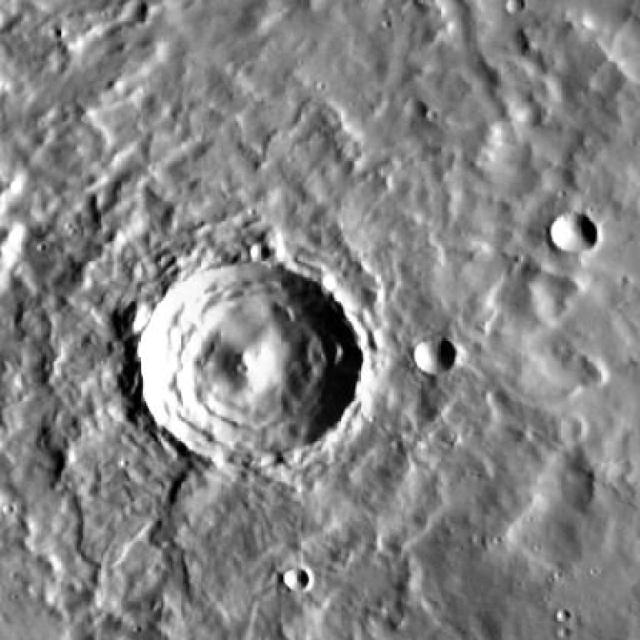crater: (132, 268, 354, 468), (550, 212, 598, 255), (415, 336, 457, 373), (286, 567, 312, 590), (508, 0, 526, 15)
